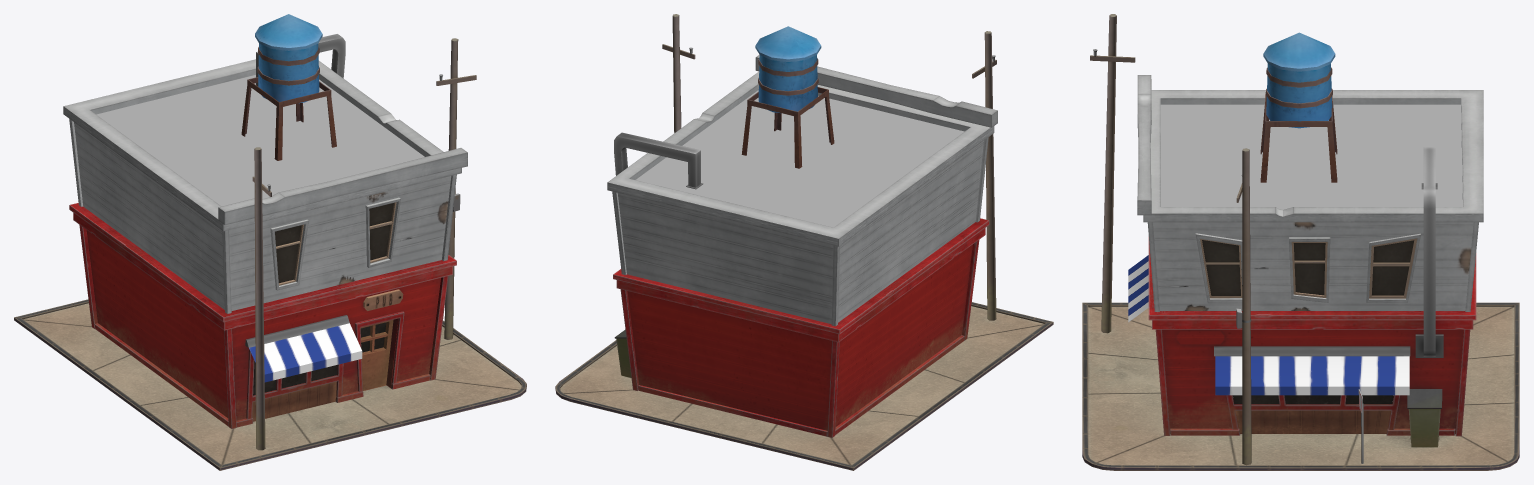
The model's file is BLD1110002.fbx.
3 views of the same model, side by side, from view 1: azimuth 30°, elevation 25°; view 2: azimuth 150°, elevation 25°; view 3: azimuth 270°, elevation 25° (orthographic). The views are drawn at different scales.
Parts seen in each view (by area): view 1: smBLD1110002; view 2: smBLD1110002; view 3: smBLD1110002.
Boxes of the visible parts, left/top/right/bottom form: smBLD1110002: left=14, top=14, right=526, bottom=470; smBLD1110002: left=555, top=14, right=1053, bottom=470; smBLD1110002: left=1082, top=14, right=1519, bottom=470.
Bounding box in the file's own units: 1069 × 1056 × 1156.
Materials: 1 (1 with a texture image).
